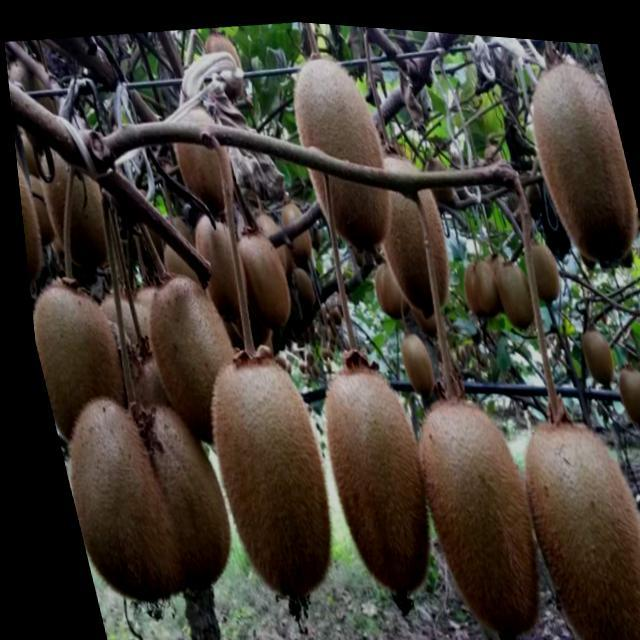kiwi: (179, 336, 350, 618), (40, 377, 239, 616), (393, 379, 552, 640), (298, 349, 444, 607), (498, 397, 640, 640), (511, 41, 640, 273), (277, 40, 399, 252), (129, 262, 252, 453), (23, 267, 140, 464), (359, 146, 460, 321), (221, 217, 295, 335), (161, 97, 236, 210), (182, 204, 247, 315), (12, 130, 51, 288), (486, 249, 537, 326), (270, 191, 312, 263), (390, 324, 433, 389), (570, 315, 613, 379), (606, 352, 640, 422), (637, 355, 640, 424)
